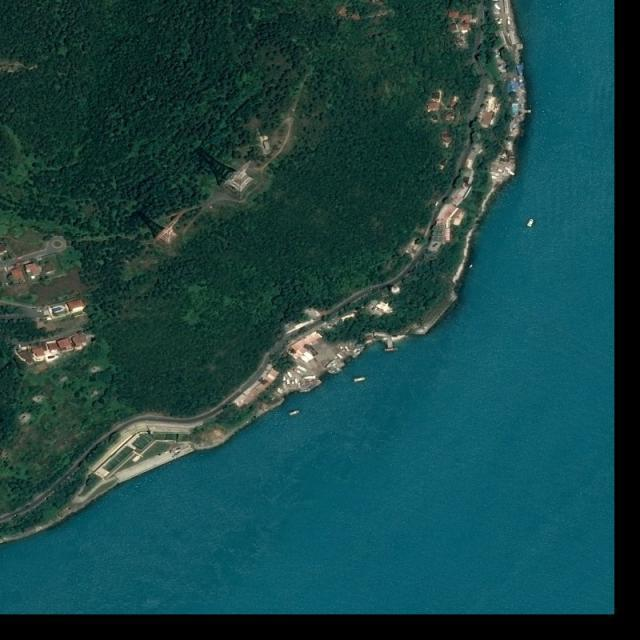ship: (288, 410, 302, 417), (384, 347, 399, 353), (527, 218, 535, 228), (354, 376, 367, 382), (468, 263, 474, 270)
